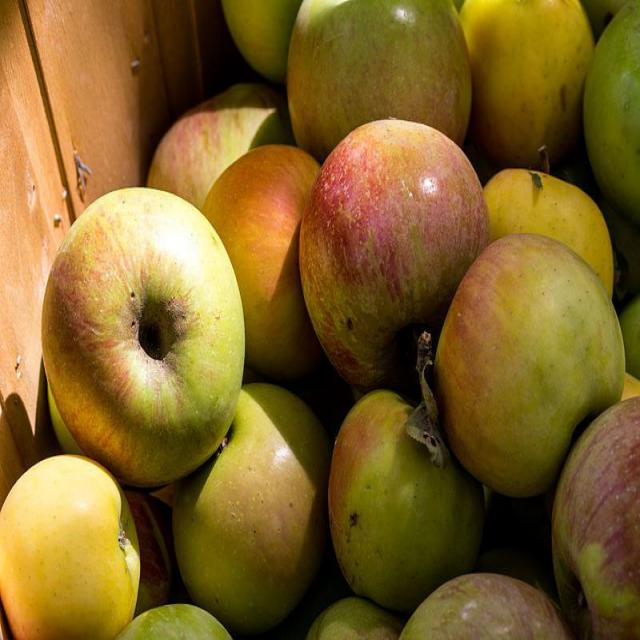fresh_apple: (298, 120, 489, 396)
rotten_apple: (44, 192, 246, 489)
